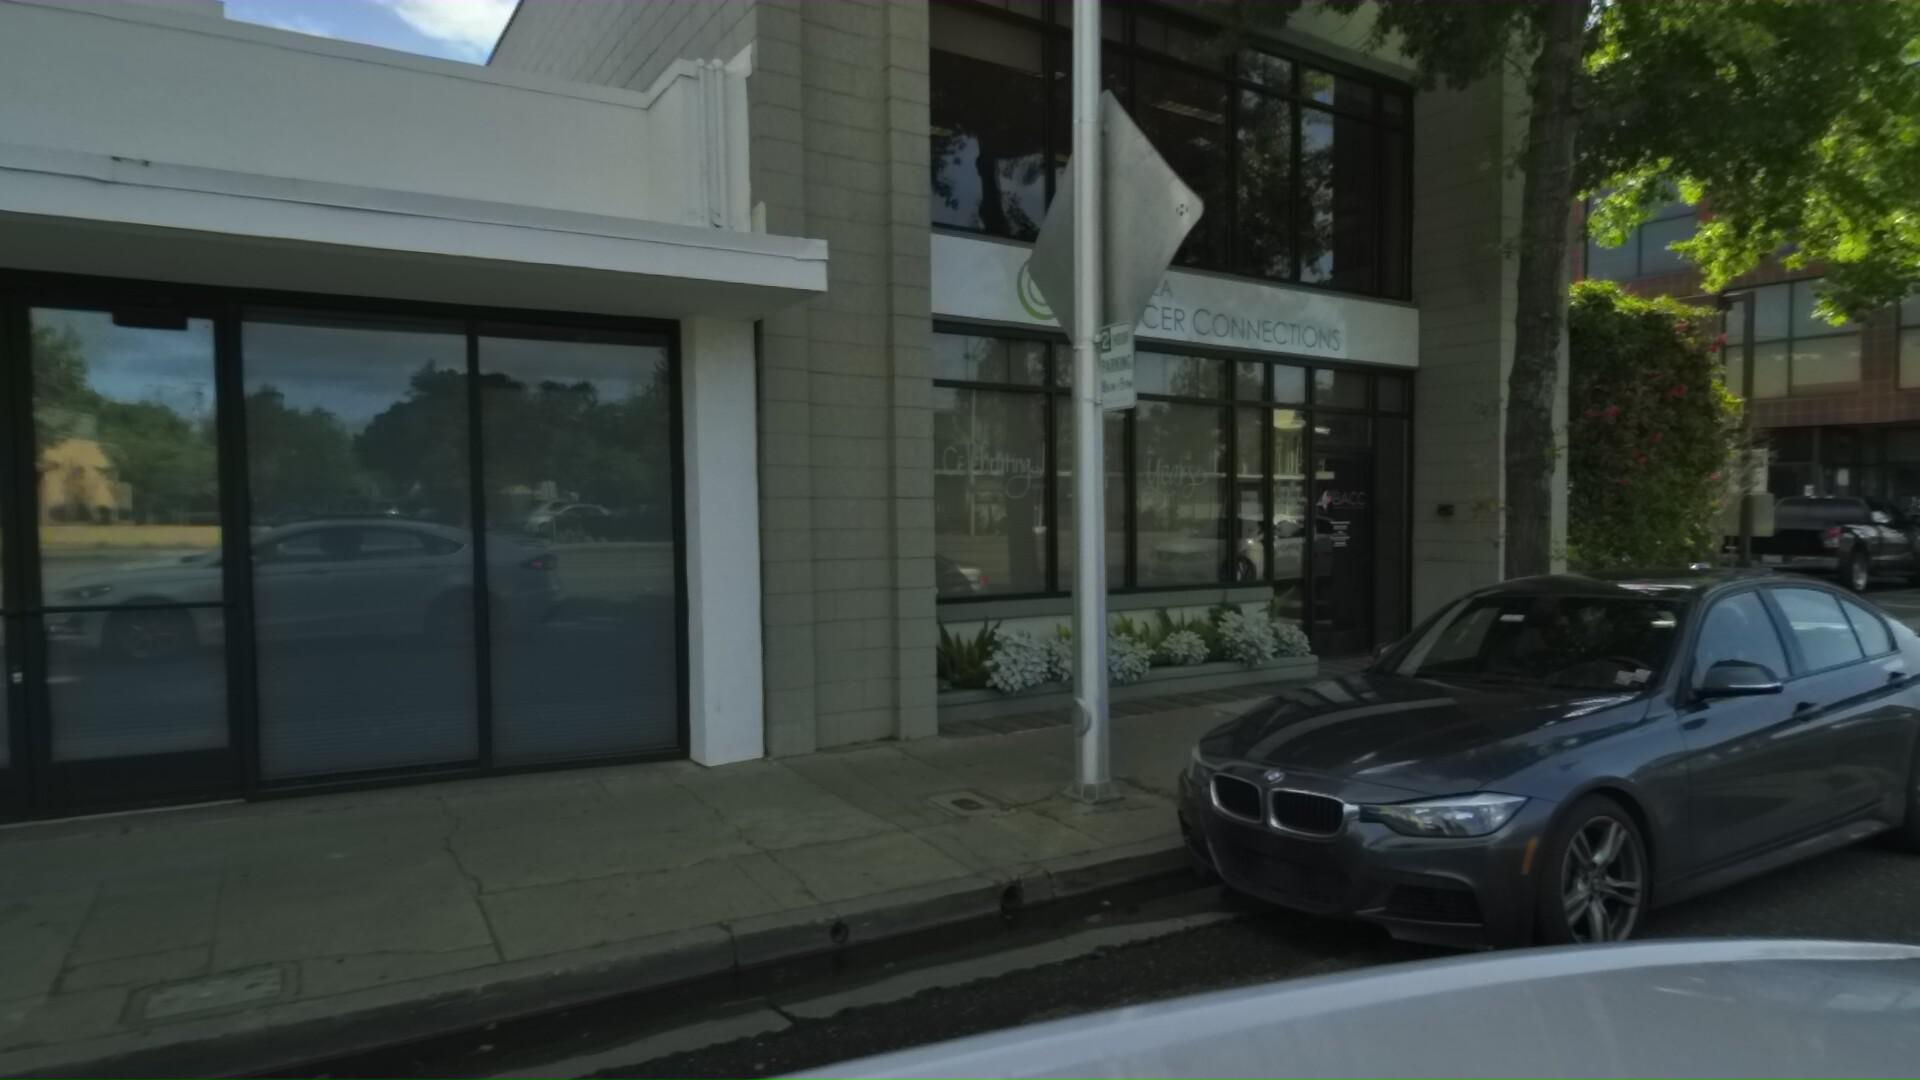car: (1150, 534, 1920, 1058), (1717, 493, 1920, 603)
